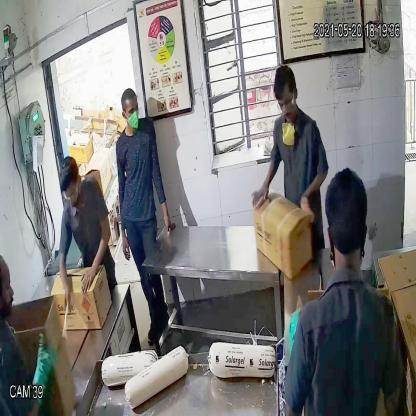goggles: (274, 96, 298, 113)
no_goggles: (120, 103, 140, 118)
